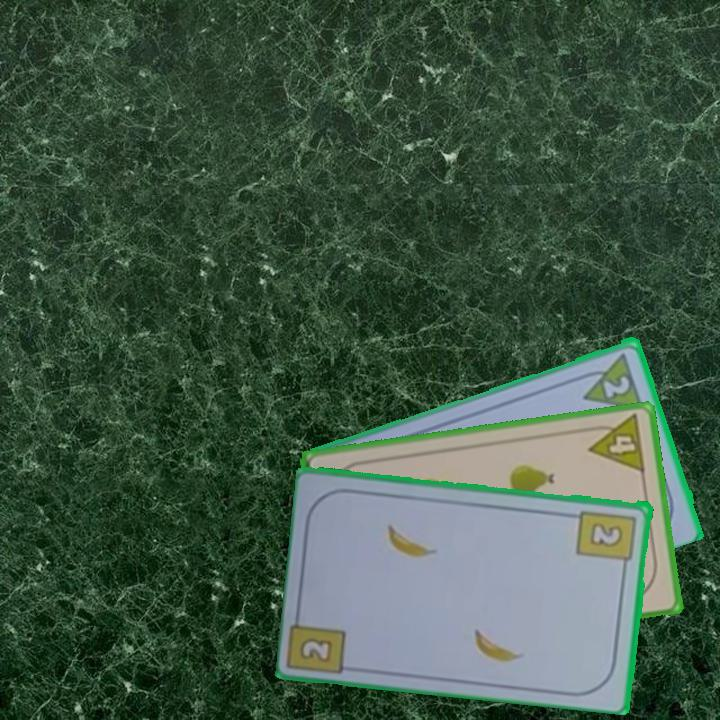2b: (574, 506, 639, 573), (296, 634, 336, 665)
2p: (574, 348, 646, 412)
4p: (583, 411, 649, 476)
